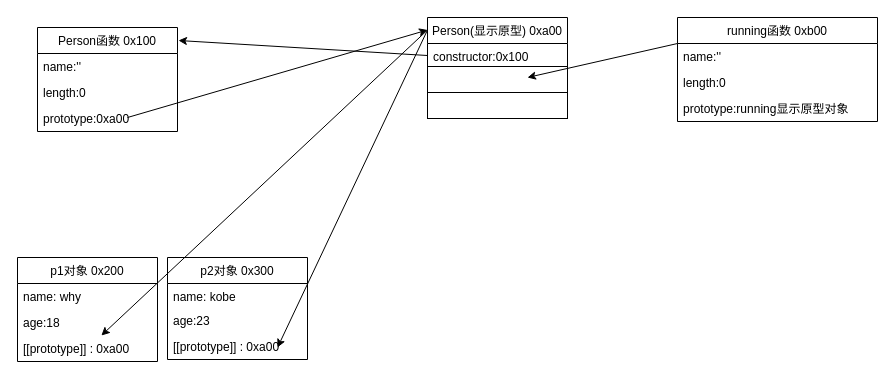
Some shapes in this 895 by 382 pixel diagram are drawn without their labels. The centre of each missing label's shape, as x and y in pixels:
address:中国: pixel 497 105
running:0xb00: pixel 497 79
